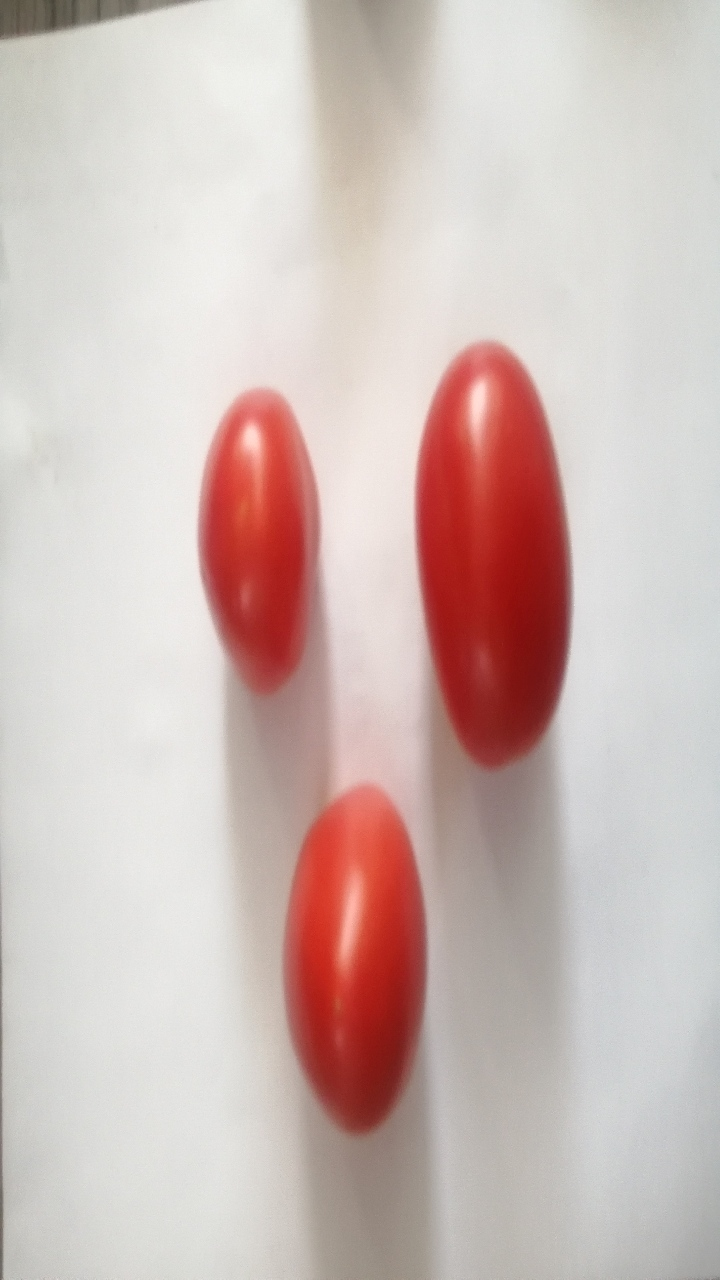tomateRojo: (383, 325, 623, 792), (252, 742, 457, 1171), (148, 379, 344, 691)
